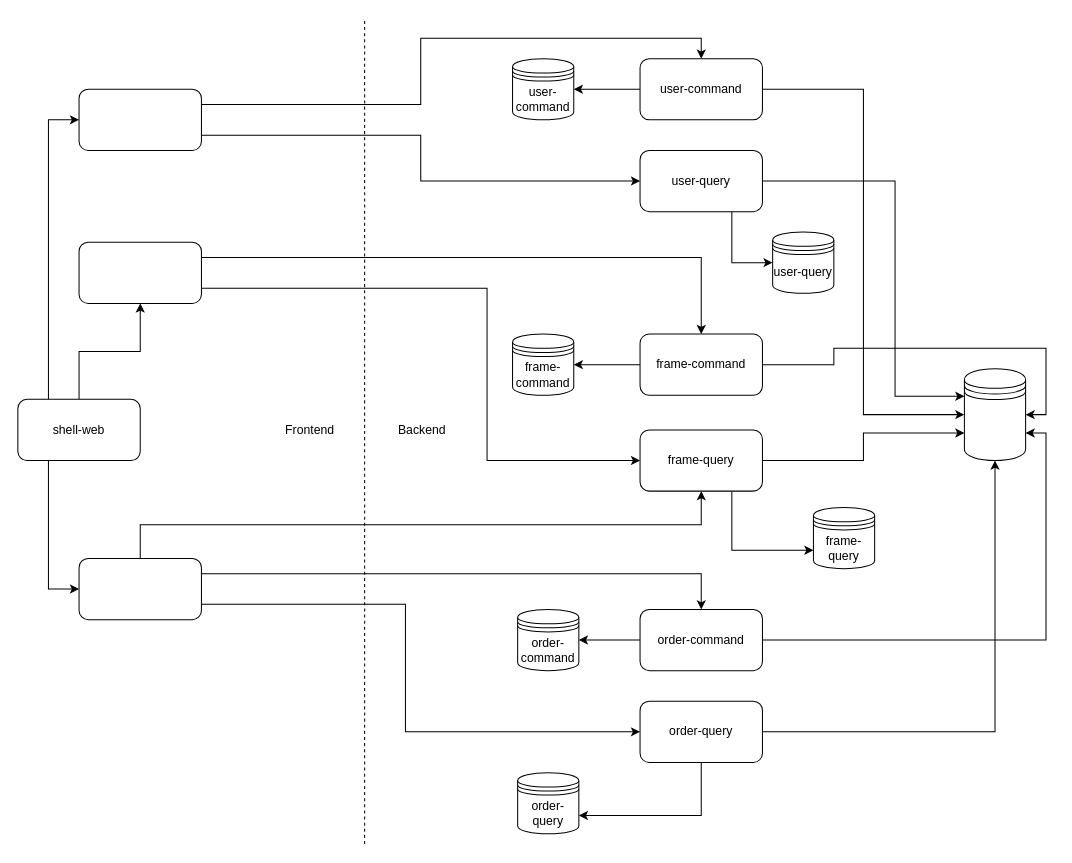
Some shapes in this 1072 by 863 pixel diagram are drawn without their labels. The shapes that lost their labels are listed below. From the top down, each one's box as (x1, y1, x2, y2) in pixels, then its label:
(78, 88, 201, 150): user-web
(78, 241, 201, 303): frame-web
(963, 368, 1026, 461): Event Store
(78, 557, 201, 620): order-web
